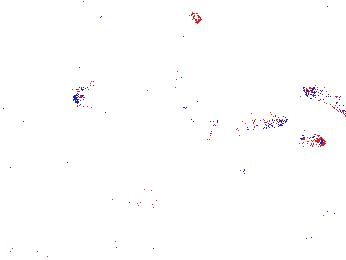X-ray fish: (91, 174, 171, 228), (27, 14, 48, 62)
red belly glassfish: (272, 130, 326, 150), (203, 161, 248, 181)
redtail glassfish: (201, 106, 287, 140), (139, 83, 199, 126), (162, 59, 243, 89), (299, 80, 346, 114), (73, 80, 97, 113)
